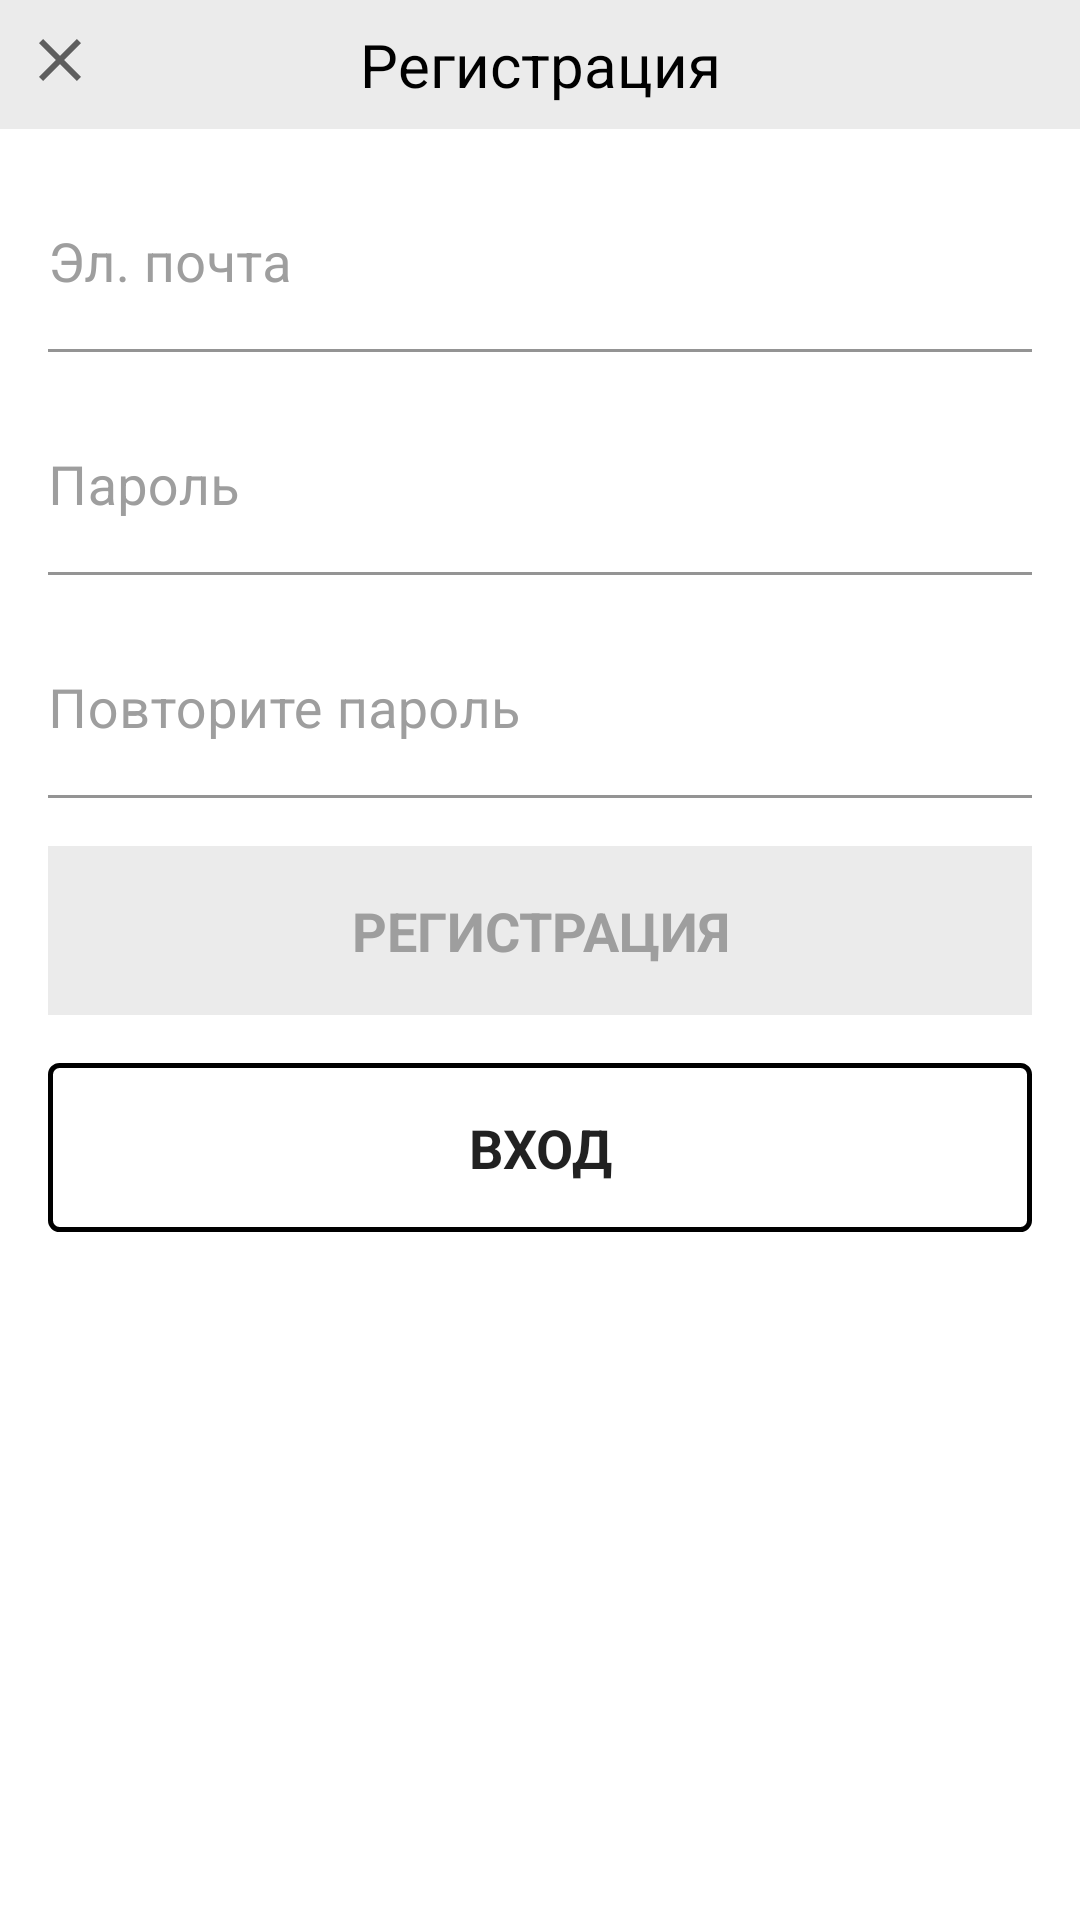

Icon bounding boxes for this 1080×1920 phone screenshot, format Rect(x1, y1, x2, y2):
Кнопка "Закрыть": Rect(39, 39, 81, 81)
